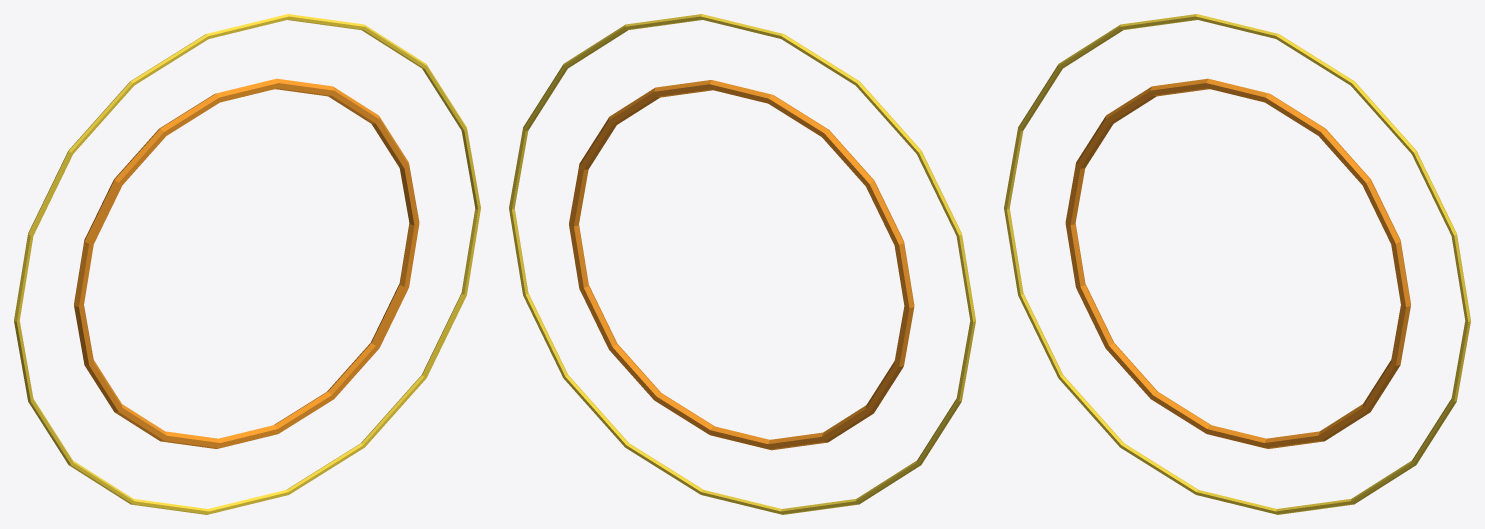
The model's file is shockwave_ring.glb.
3 renders of one model, left to right at view 1: azimuth 30°, elevation 25°; view 2: azimuth 150°, elevation 25°; view 3: azimuth 330°, elevation 25°, orthographic.
Visible parts, largest first — view 1: ring, outer; view 2: ring, outer; view 3: ring, outer.
Part boxes in pixels (x1,y1,x2,y2): ring: [74, 78, 419, 448]; outer: [14, 14, 480, 514]; ring: [569, 80, 914, 450]; outer: [509, 14, 975, 514]; ring: [1065, 78, 1410, 448]; outer: [1004, 14, 1470, 514].
Bounding box in the file's own units: 3.34 × 3.29 × 0.0606.
